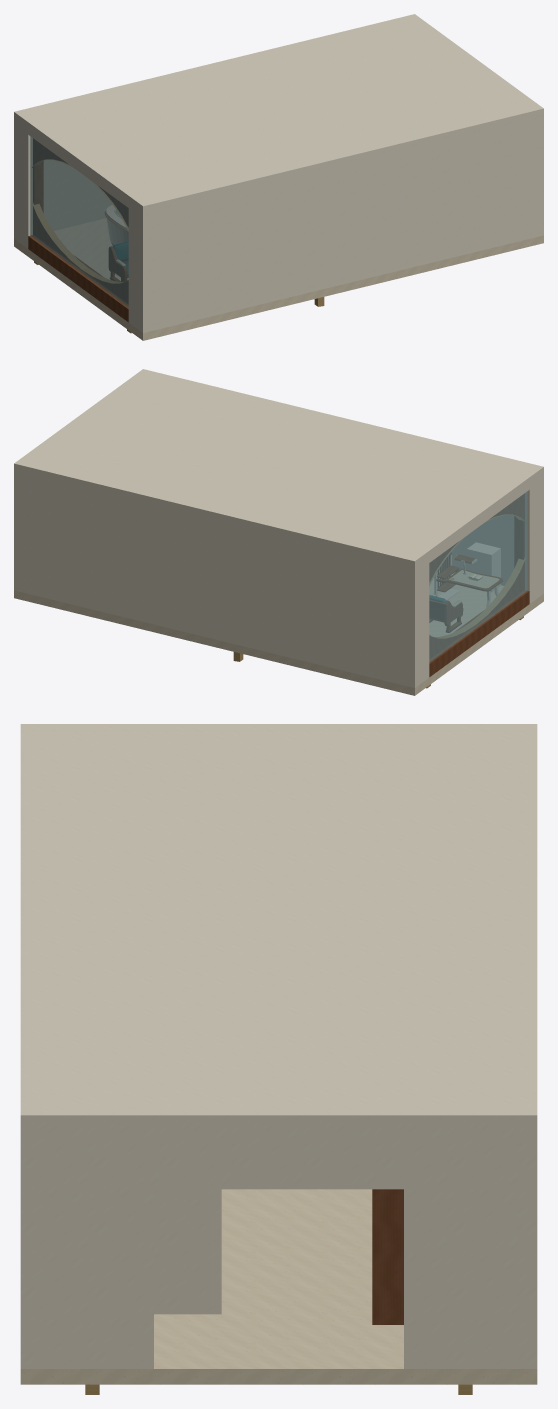
File: QuietGroveBank_421_r001.glb
3 renders of one model, top to bottom at view 1: azimuth 30°, elevation 25°; view 2: azimuth 150°, elevation 25°; view 3: azimuth 270°, elevation 25°, orthographic. The views are drawn at different scales.
Parts seen in each view (by area): view 1: QG421_Ceiling, QG421_SouthSide, QGB421_PrivateCourtGlass, QG421_RoomFloor, QG421_NorthSide, QGB421_CourtSouthPier, QGB421_CourtNorthPier, QGB421_CourtSill, QG421_OvalWindowReveal, QG421_OvalDepthReturn, QGB421_CourtHeader, QG421_QG421_ReservedRestSupport__Hollow continuous basin she (+1 smaller); view 2: QG421_Ceiling, QG421_NorthSide, QGB421_PrivateCourtGlass, QG421_RoomFloor, QGB421_CourtNorthPier, QG421_SouthSide, QGB421_CourtSouthPier, QGB421_CourtSill, QG421_OvalWindowReveal, QG421_RinseServiceMount, QG421_OvalDepthReturn, QGB421_CourtHeader (+2 smaller); view 3: QG421_Ceiling, QG421_RoomFloor, QG421_EntryShoulderNorth, QG421_EntryShoulderSouth, QG421_EntryHeader, QG421_WashEntrySide, QG421_EntryPrivacyDogleg, QG421_NorthSide, QG421_SouthSide.
Boxes of the visible parts, bbox=[...] form: QG421_Ceiling: bbox=[14, 14, 543, 211]; QG421_SouthSide: bbox=[141, 114, 543, 332]; QGB421_PrivateCourtGlass: bbox=[30, 136, 128, 307]; QG421_RoomFloor: bbox=[14, 218, 543, 340]; QG421_NorthSide: bbox=[14, 117, 112, 239]; QGB421_CourtSouthPier: bbox=[128, 201, 150, 332]; QGB421_CourtNorthPier: bbox=[14, 118, 32, 248]; QGB421_CourtSill: bbox=[28, 235, 128, 322]; QG421_OvalWindowReveal: bbox=[34, 139, 128, 303]; QG421_OvalDepthReturn: bbox=[32, 159, 128, 283]; QGB421_CourtHeader: bbox=[28, 128, 128, 207]; QG421_QG421_ReservedRestSupport__Hollow continuous basin she: bbox=[106, 205, 128, 245]; QG421_Ceiling: bbox=[14, 369, 543, 566]; QG421_NorthSide: bbox=[14, 469, 415, 687]; QGB421_PrivateCourtGlass: bbox=[429, 491, 527, 662]; QG421_RoomFloor: bbox=[14, 570, 543, 695]; QGB421_CourtNorthPier: bbox=[407, 556, 429, 687]; QG421_SouthSide: bbox=[439, 472, 543, 594]; QGB421_CourtSouthPier: bbox=[525, 474, 541, 603]; QGB421_CourtSill: bbox=[429, 590, 529, 677]; QG421_OvalWindowReveal: bbox=[429, 494, 523, 658]; QG421_RinseServiceMount: bbox=[467, 542, 500, 591]; QG421_OvalDepthReturn: bbox=[429, 514, 525, 638]; QGB421_CourtHeader: bbox=[429, 483, 529, 562]; QG421_Ceiling: bbox=[20, 724, 537, 1125]; QG421_RoomFloor: bbox=[20, 1189, 537, 1384]; QG421_EntryShoulderNorth: bbox=[404, 1125, 528, 1368]; QG421_EntryShoulderSouth: bbox=[29, 1125, 153, 1368]; QG421_EntryHeader: bbox=[150, 1125, 407, 1189]; QG421_WashEntrySide: bbox=[154, 1189, 221, 1314]; QG421_EntryPrivacyDogleg: bbox=[372, 1189, 403, 1324]; QG421_NorthSide: bbox=[528, 1125, 537, 1368]; QG421_SouthSide: bbox=[20, 1125, 29, 1368].
Bounding box in the file's own units: 12.9 × 4.91 × 7.2.
61 materials, 43 textured.
